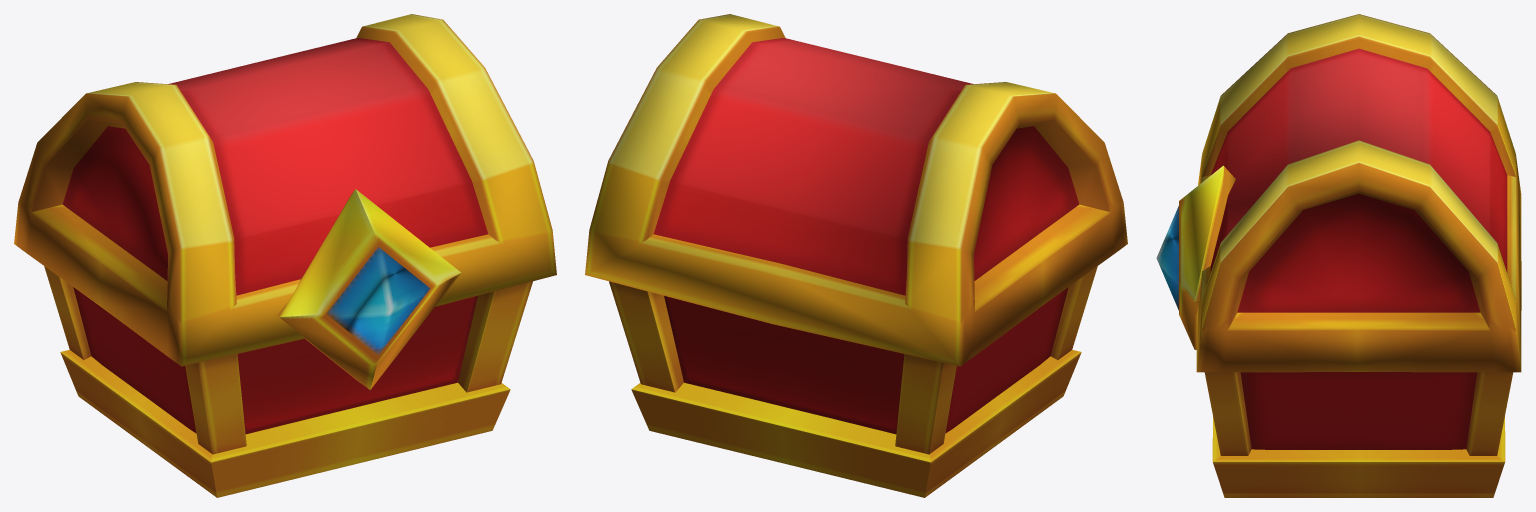
Rendered from baoxiang.FBX.
3 renders of one model, left to right at view 1: azimuth 30°, elevation 25°; view 2: azimuth 150°, elevation 25°; view 3: azimuth 270°, elevation 25°, orthographic. The views are drawn at different scales.
Visible parts, largest first — view 1: baoxiang; view 2: baoxiang; view 3: baoxiang.
Part boxes in pixels (x1,y1,x2,y2): baoxiang: [14, 14, 556, 497]; baoxiang: [585, 14, 1127, 497]; baoxiang: [1156, 14, 1521, 497].
Bounding box in the file's own units: 198 × 179 × 172.
1 material, 1 textured.
